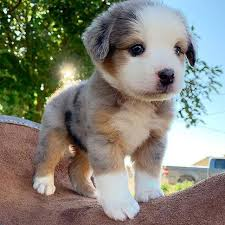dog: (25, 1, 202, 223)
